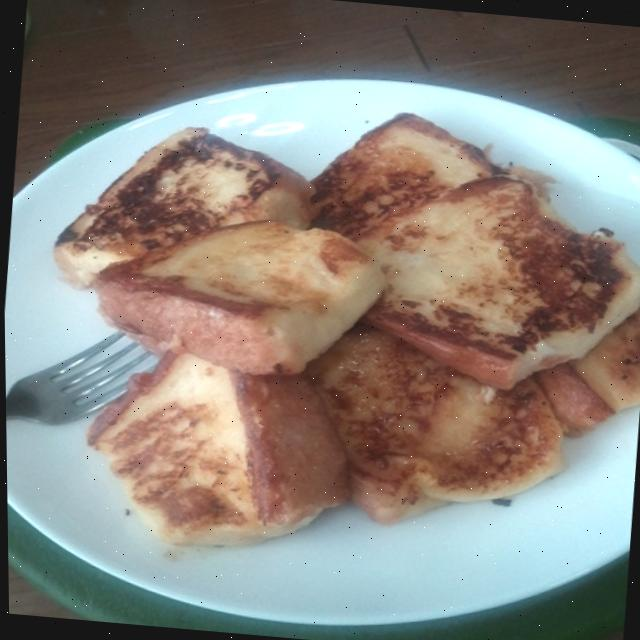面包点心: (0, 17, 640, 625)
